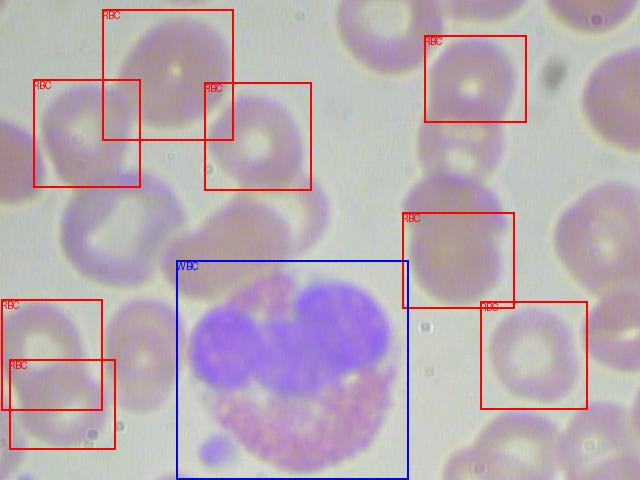RBC: (102, 9, 233, 140), (480, 301, 587, 409), (204, 82, 311, 190), (33, 79, 140, 187), (1, 299, 102, 410), (402, 212, 514, 308), (9, 359, 115, 449), (424, 35, 526, 122)
WBC: (176, 260, 408, 479)
